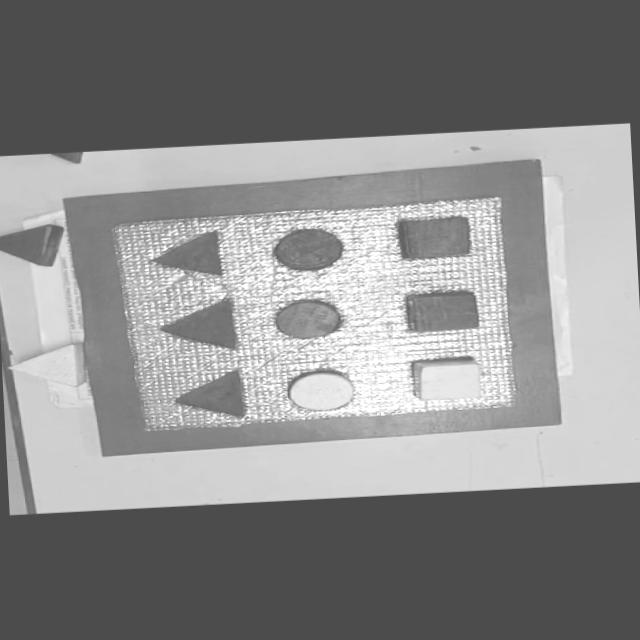bcircle: (272, 228, 345, 273)
bcube: (397, 216, 475, 262), (48, 152, 86, 166)
mttriangle: (158, 298, 238, 354), (171, 370, 249, 423), (148, 232, 226, 281)
rcircle: (271, 299, 344, 342)
rcube: (407, 290, 482, 334)
rtriangle: (0, 224, 68, 270)
wb: (113, 196, 518, 434)
ycircle: (286, 370, 357, 414)
ycube: (410, 357, 484, 404)
ytriangle: (5, 342, 89, 392)
